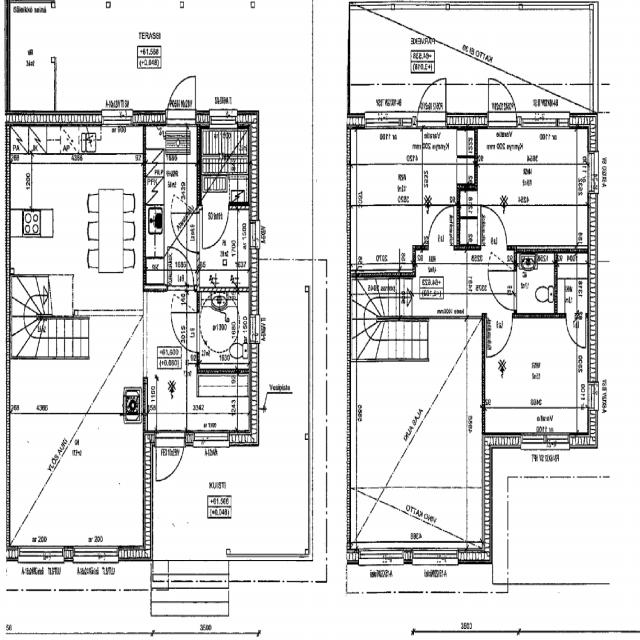door: (418, 70, 446, 129), (167, 68, 195, 126), (488, 71, 516, 129), (156, 431, 184, 488), (167, 244, 194, 291), (486, 313, 513, 357), (202, 202, 228, 247), (428, 206, 454, 250), (481, 205, 506, 250), (170, 214, 199, 252), (488, 271, 517, 309), (171, 314, 199, 352), (566, 313, 586, 348)
